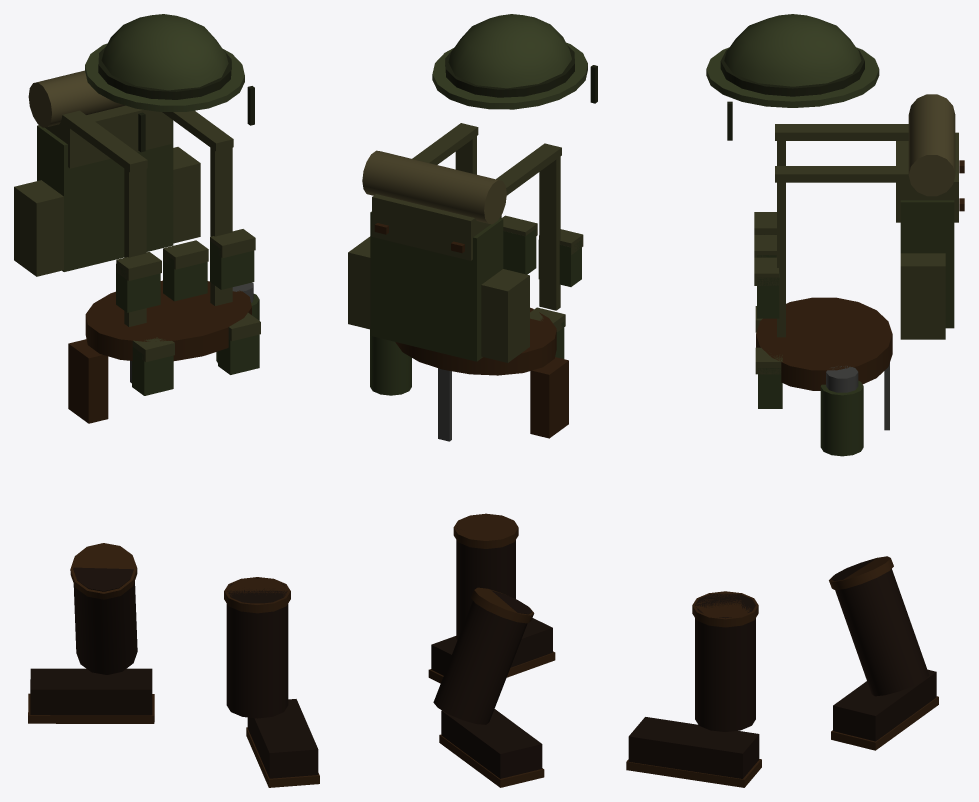
File: uitrusting.glb
The picture shows the model from 3 angles, left to right: view 1: azimuth 30°, elevation 25°; view 2: azimuth 150°, elevation 25°; view 3: azimuth 270°, elevation 25°; orthographic projection. The views are drawn at different scales.
Parts seen in each view (by area): view 1: Rugzak_Mesh, Koppel_Mesh, LaarsR_Mesh, LaarsL_Mesh, Helm_Mesh; view 2: Rugzak_Mesh, LaarsR_Mesh, Helm_Mesh, Koppel_Mesh, LaarsL_Mesh; view 3: Rugzak_Mesh, LaarsL_Mesh, Koppel_Mesh, LaarsR_Mesh, Helm_Mesh.
Boxes of the visible parts, x1,y1,x2,y2 form: Rugzak_Mesh: [14, 70, 255, 326]; Koppel_Mesh: [68, 280, 260, 423]; LaarsR_Mesh: [28, 543, 154, 723]; LaarsL_Mesh: [224, 577, 319, 787]; Helm_Mesh: [85, 14, 254, 152]; Rugzak_Mesh: [348, 123, 583, 362]; LaarsR_Mesh: [433, 587, 544, 787]; Helm_Mesh: [432, 14, 597, 109]; Koppel_Mesh: [370, 307, 568, 441]; LaarsL_Mesh: [428, 513, 555, 683]; Rugzak_Mesh: [754, 94, 964, 339]; LaarsL_Mesh: [626, 591, 761, 787]; Koppel_Mesh: [755, 297, 892, 456]; LaarsR_Mesh: [829, 556, 938, 750]; Helm_Mesh: [706, 14, 879, 140].
Size of the model in its own units: 0.5179 by 1.76 by 0.7542.
